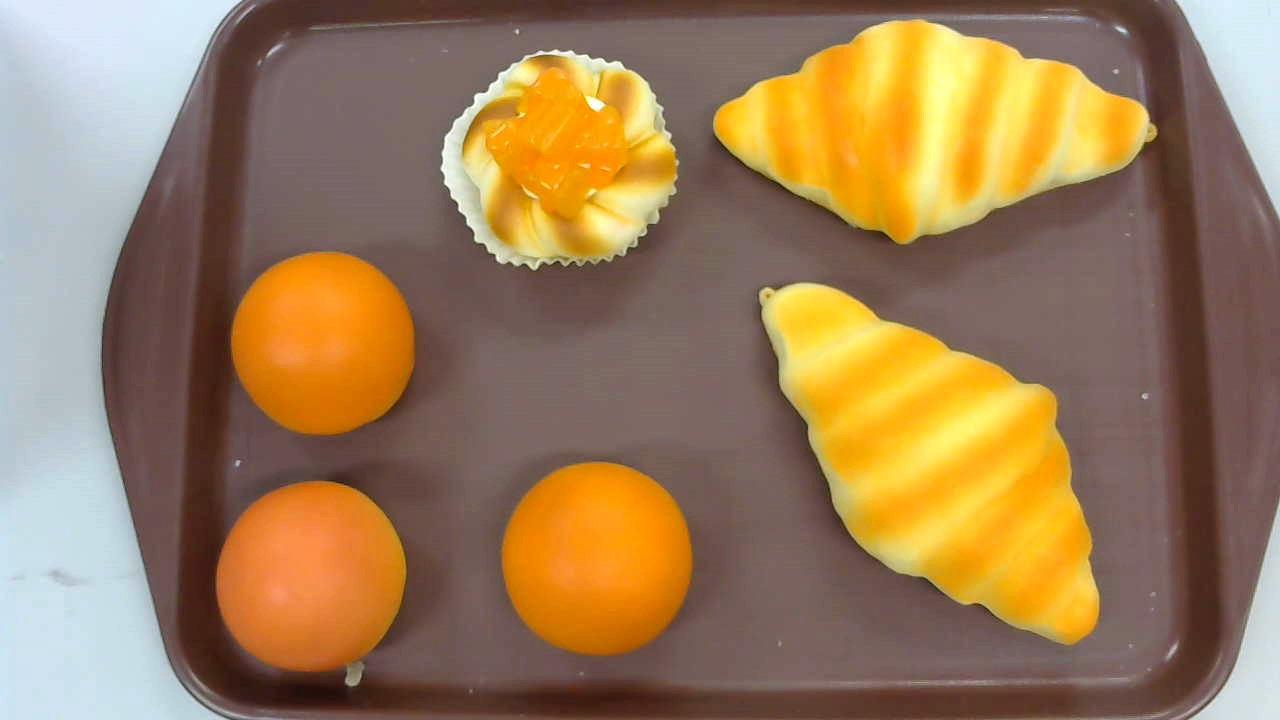bun: (502, 461, 694, 655), (214, 480, 406, 672), (230, 251, 416, 438)
croissant: (758, 282, 1100, 647), (712, 19, 1157, 247)
mango tart: (441, 49, 680, 272)
